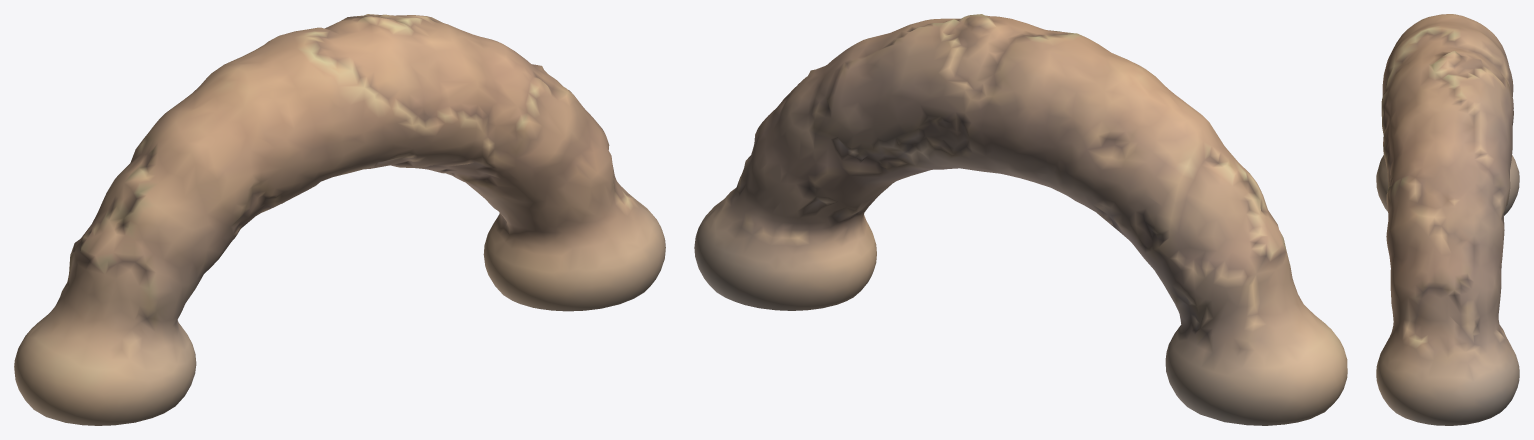
File: env_fr_arch.glb
3 views of the same model, side by side, from view 1: azimuth 30°, elevation 25°; view 2: azimuth 150°, elevation 25°; view 3: azimuth 270°, elevation 25° (orthographic). The views are drawn at different scales.
Visible parts, largest first — view 1: geometry_0; view 2: geometry_0; view 3: geometry_0.
Boxes of the visible parts, box(x1,y1,x2,y2) form: geometry_0: box(14, 14, 665, 425); geometry_0: box(694, 14, 1347, 425); geometry_0: box(1376, 14, 1519, 425).
Size of the model in its own units: 18.8 by 8.93 by 4.4.
